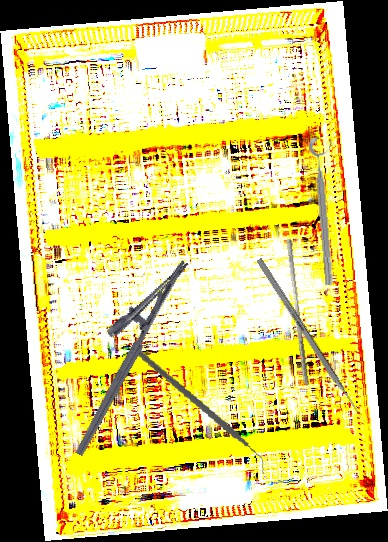Chopper: (116, 346, 282, 476)
Fixation Ring: (308, 136, 346, 286)
Needle Holder: (47, 244, 191, 458)
Pusher: (255, 257, 368, 426), (280, 238, 316, 387)
